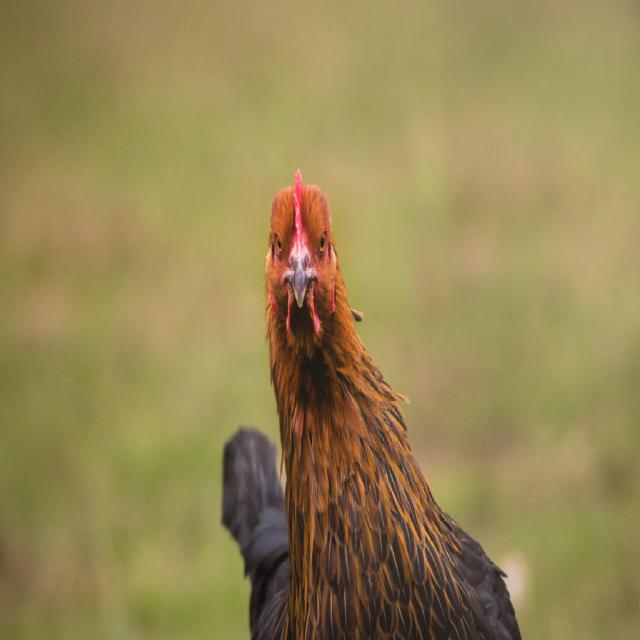Chicken: (220, 168, 524, 640)
